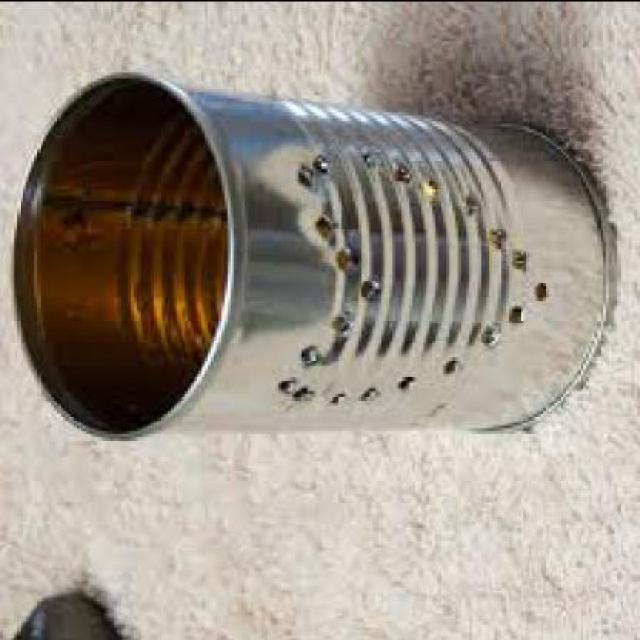METAL: (8, 66, 606, 434)
